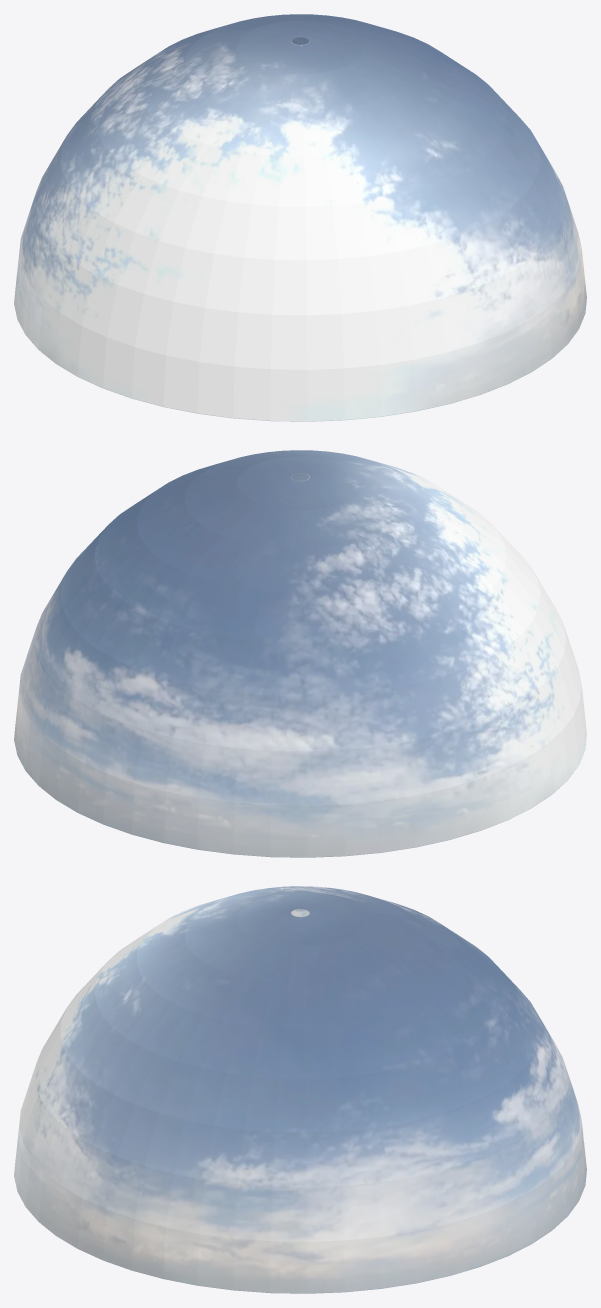
Rendered from clsc.glb.
3 renders of one model, top to bottom at view 1: azimuth 30°, elevation 25°; view 2: azimuth 150°, elevation 25°; view 3: azimuth 270°, elevation 25°, orthographic.
Parts seen in each view (by area): view 1: clsc_ciel; view 2: clsc_ciel; view 3: clsc_ciel.
Part boxes in pixels (bbox=[...]): clsc_ciel: bbox=[14, 14, 586, 421]; clsc_ciel: bbox=[14, 450, 586, 857]; clsc_ciel: bbox=[14, 886, 586, 1293].
Bounding box in the file's own units: 220 × 110 × 220.
133 materials, 38 textured.
